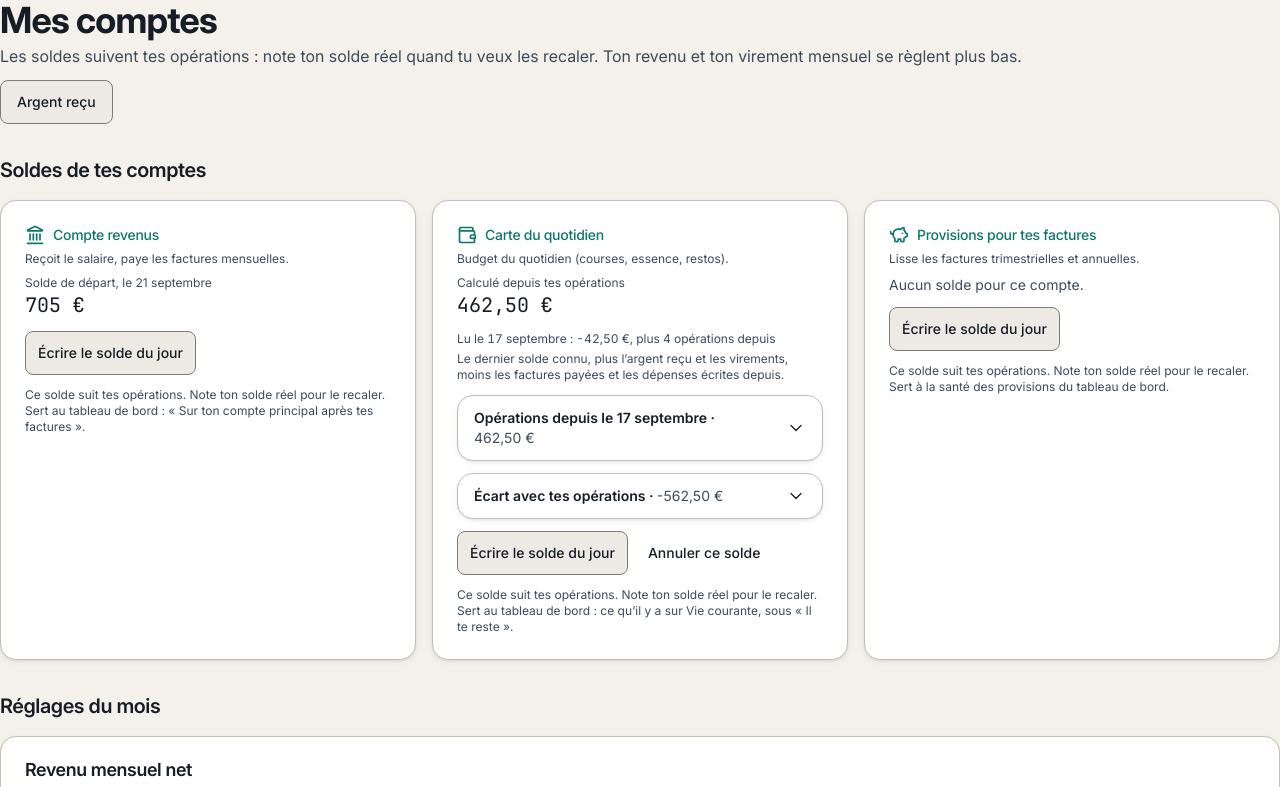
AccountsClient — un solde lu, daté, et nommé pour ce qu’il est › pose la question du jour dans une feuille sans champ de nom ni de rôle
What coordinates should you click on to do the following:
click the button with aria-label "Écrire le solde du jour de Provisions pour tes factures"
I would click on:
 (974, 329)
Its box is 889,307 -> 1060,351.
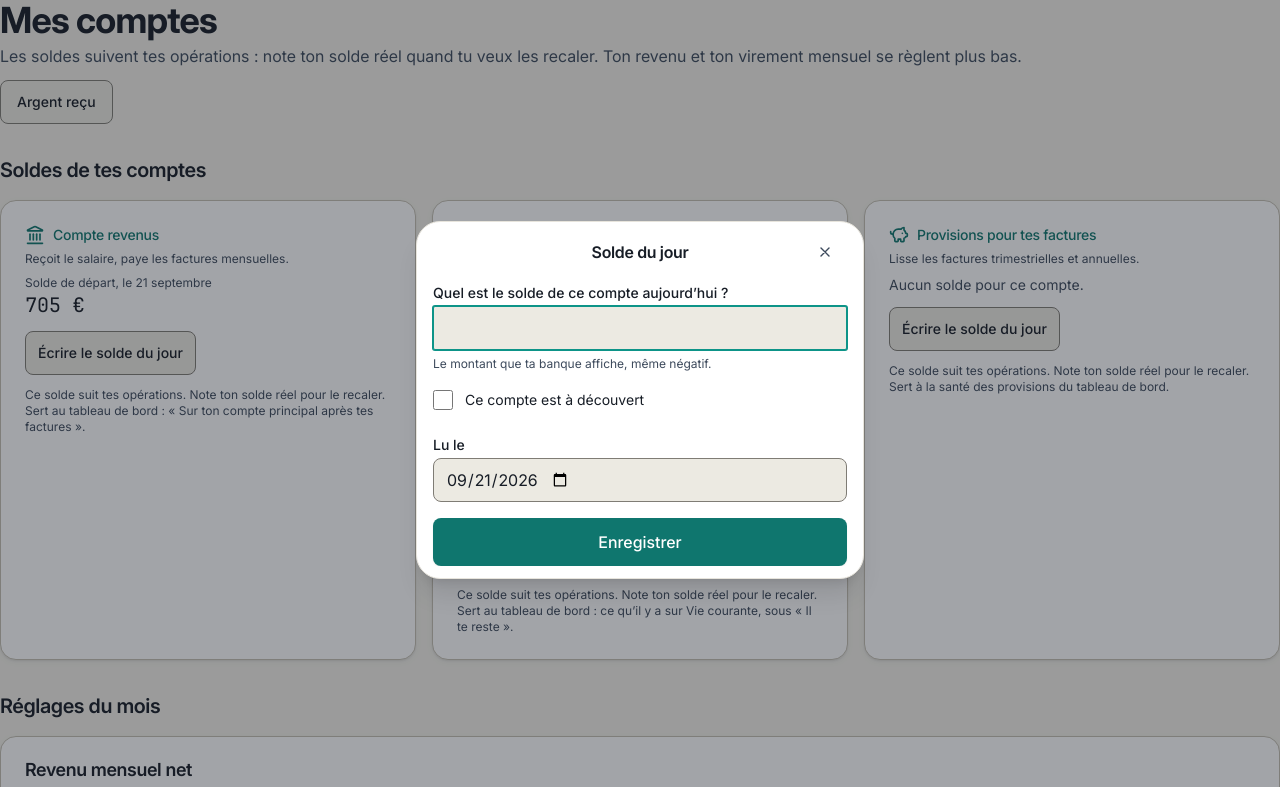
Now the field labelled "Quel est le solde de ce compte aujourd’hui ?" is shown, box 433,306 -> 847,350
